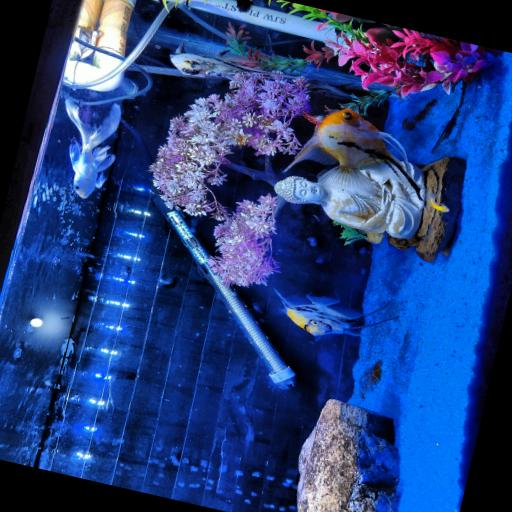Fish: (284, 108, 407, 188), (275, 288, 382, 339), (66, 99, 121, 197), (171, 42, 275, 77), (430, 195, 450, 211)
